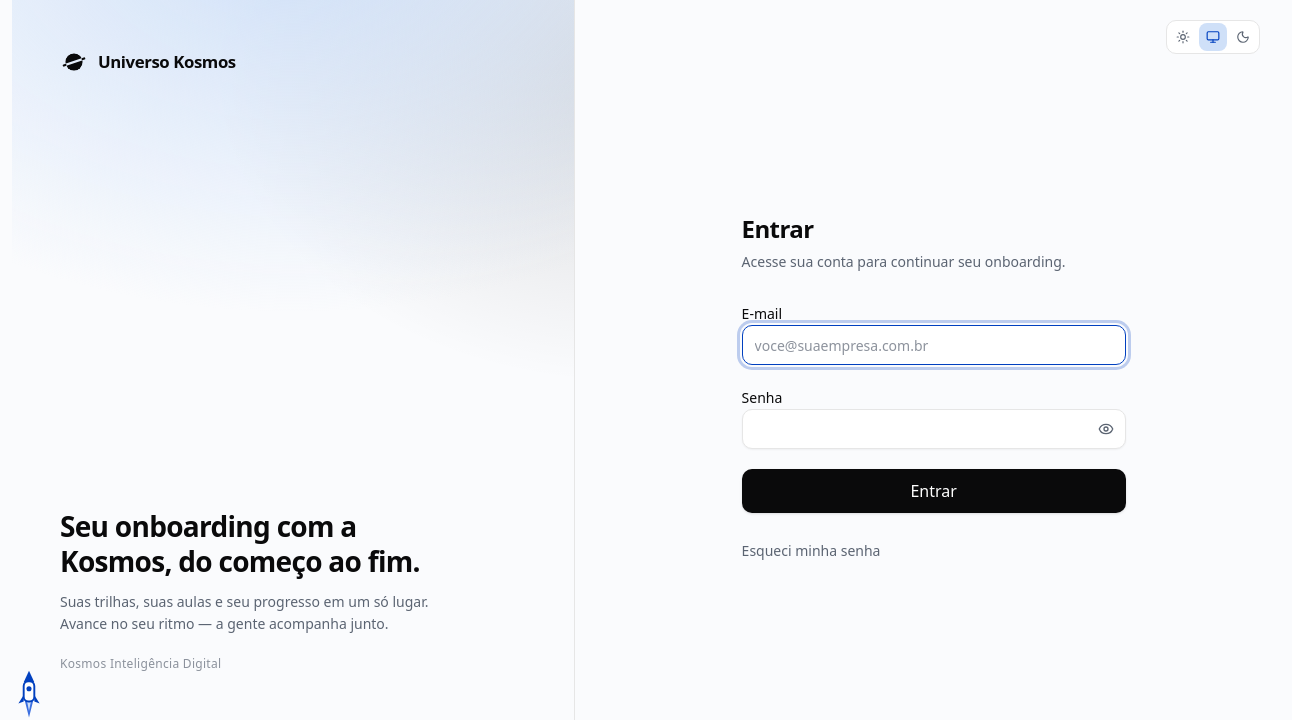
Test: LoginPage › surfaces field-level validation from the API
Type "nao-e-email" into the field labelled "E-mail" at (934, 345), box x1=742 y1=325 x2=1126 y2=365
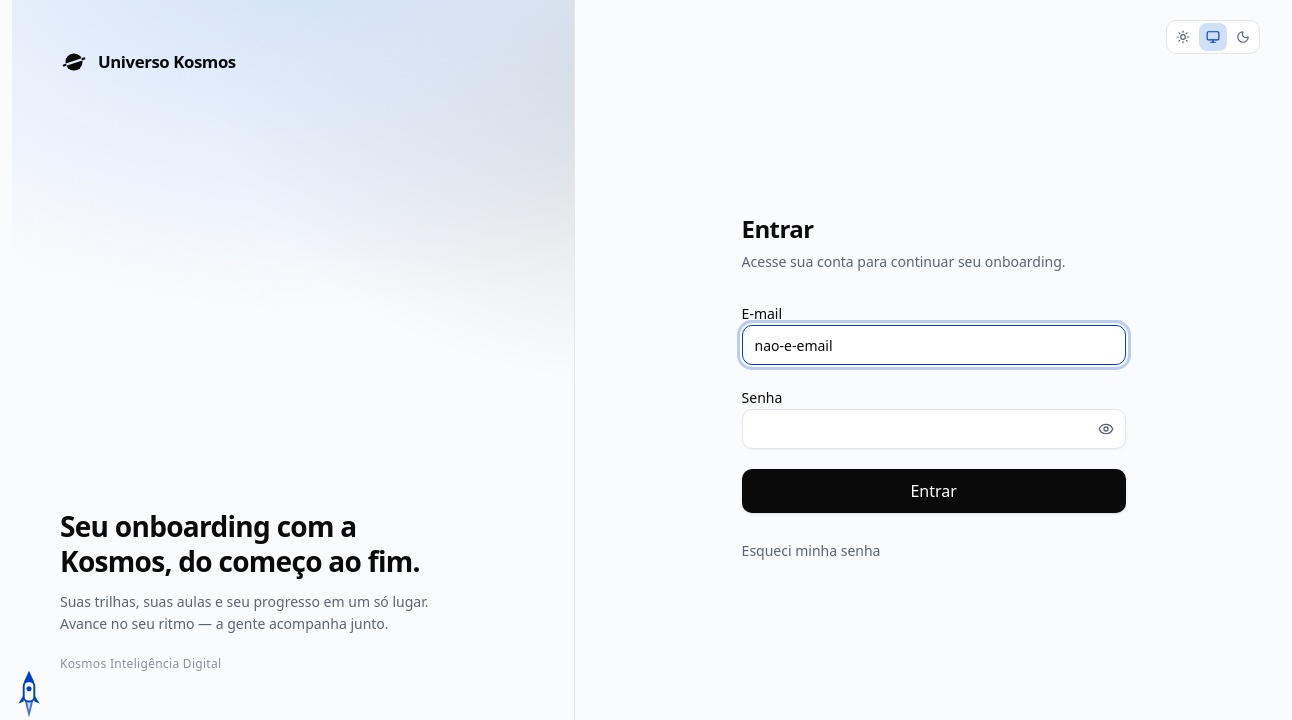
Type "qualquer-coisa" into the password field labelled "Senha" at (934, 429), box x1=742 y1=409 x2=1126 y2=449
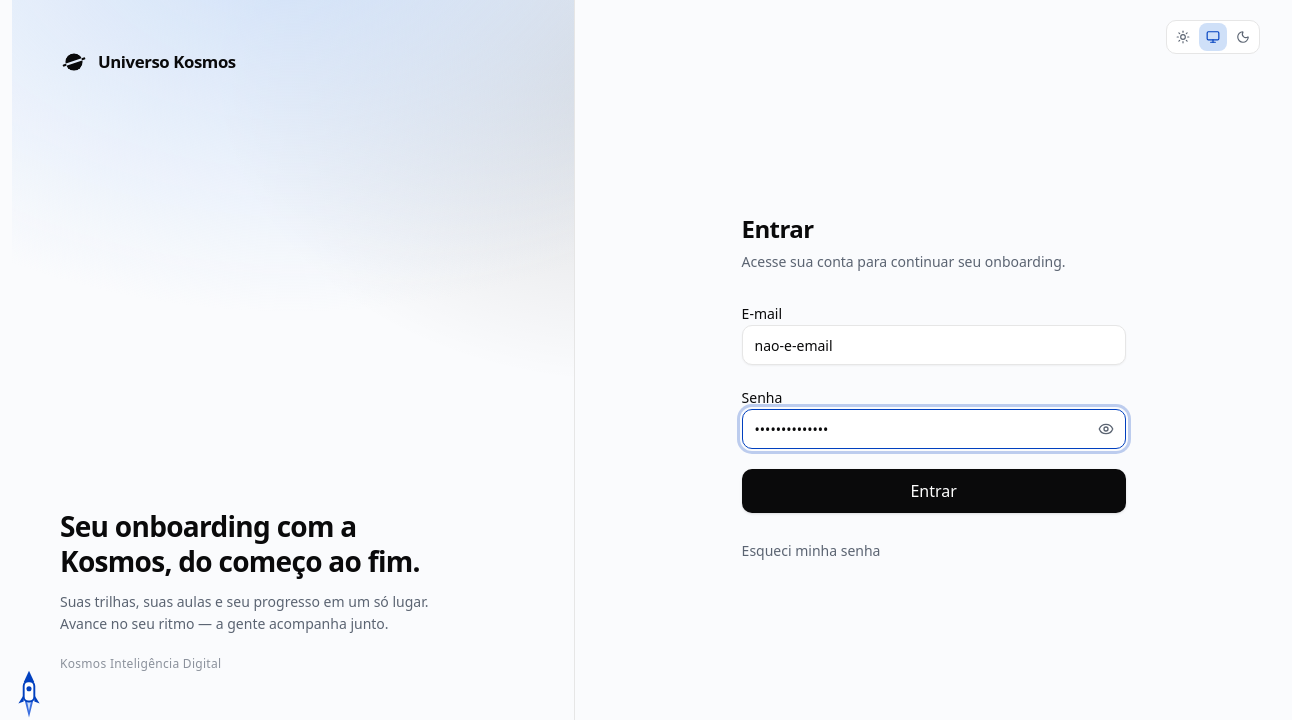
Click the button "Entrar" at (934, 491), box x1=742 y1=469 x2=1126 y2=513
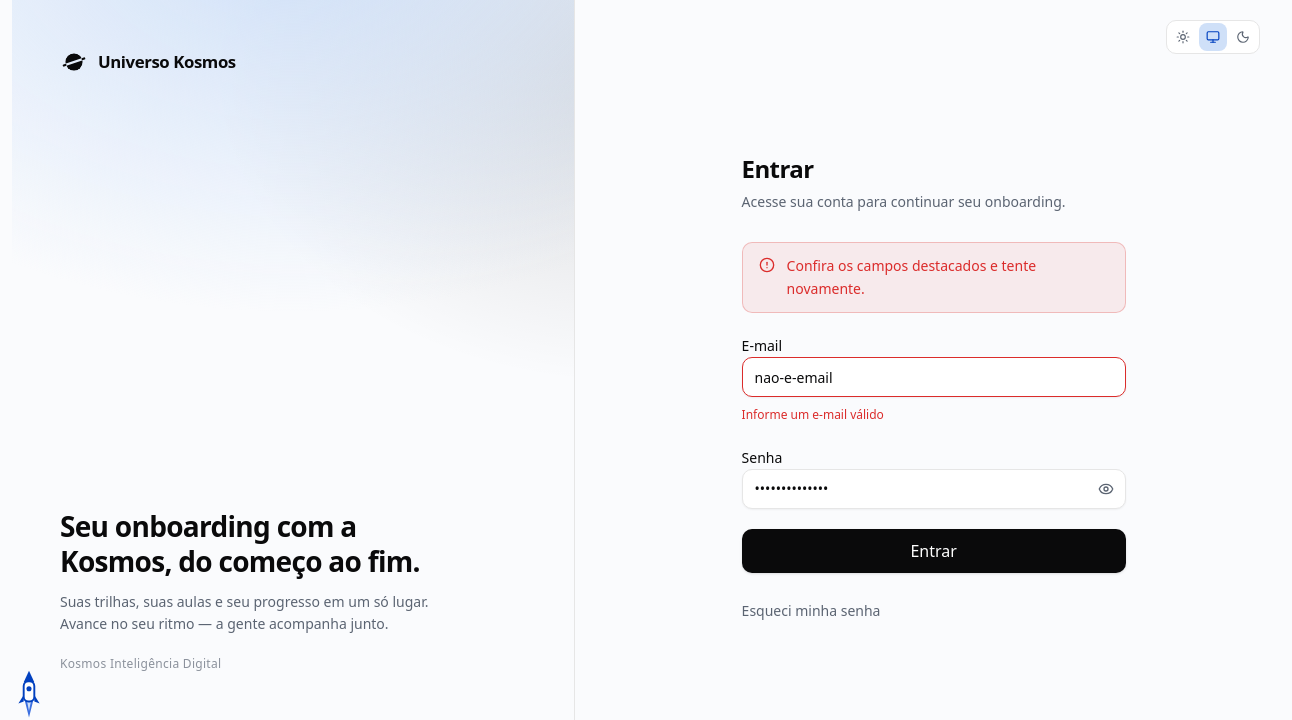
Expected: the text "Informe um e-mail válido" is shown, x1=742 y1=406 x2=884 y2=423
